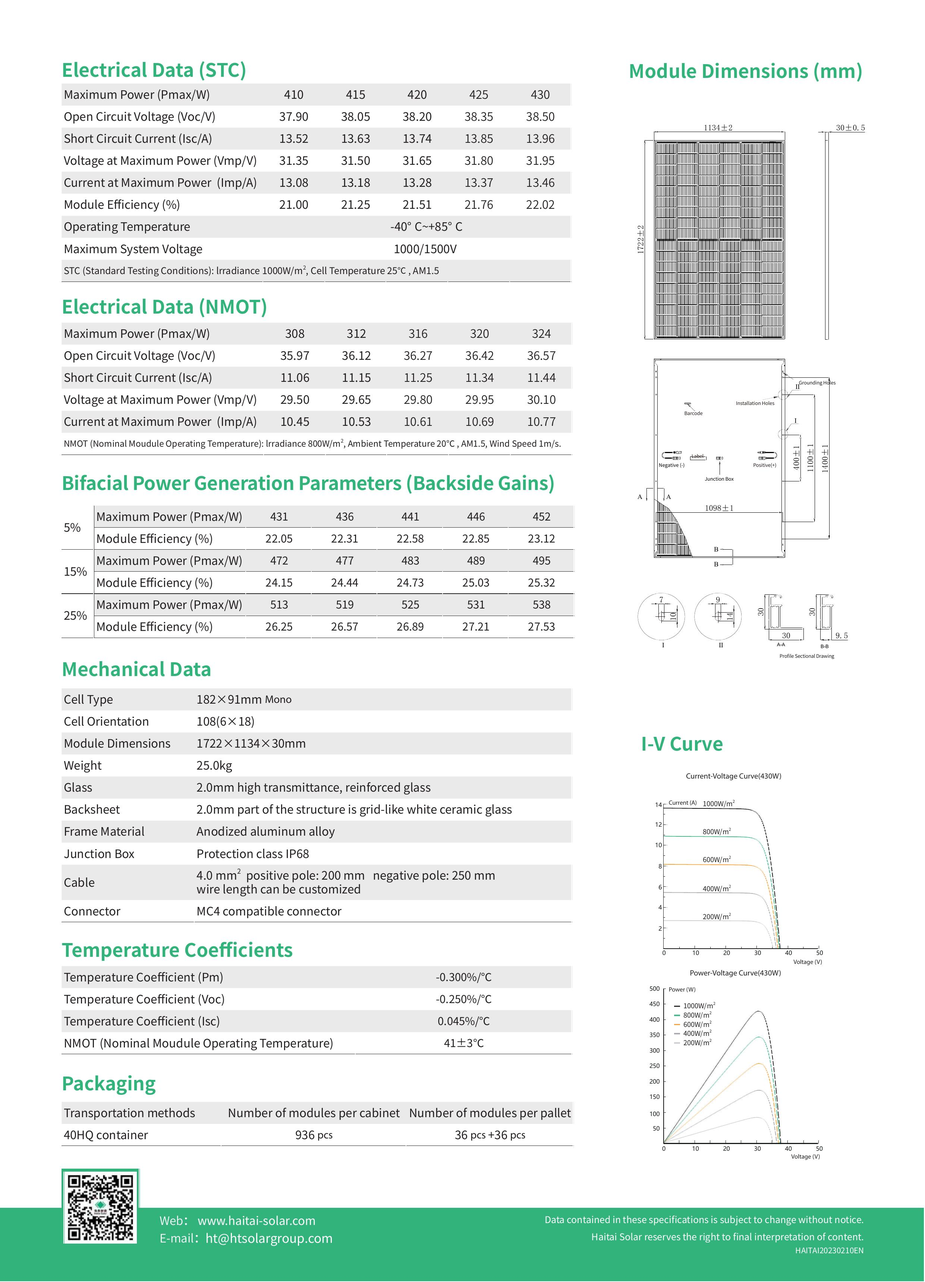table: (51, 656, 579, 926), (51, 57, 583, 287), (51, 468, 581, 643), (51, 295, 575, 459), (51, 934, 578, 1059), (50, 1068, 582, 1148)
